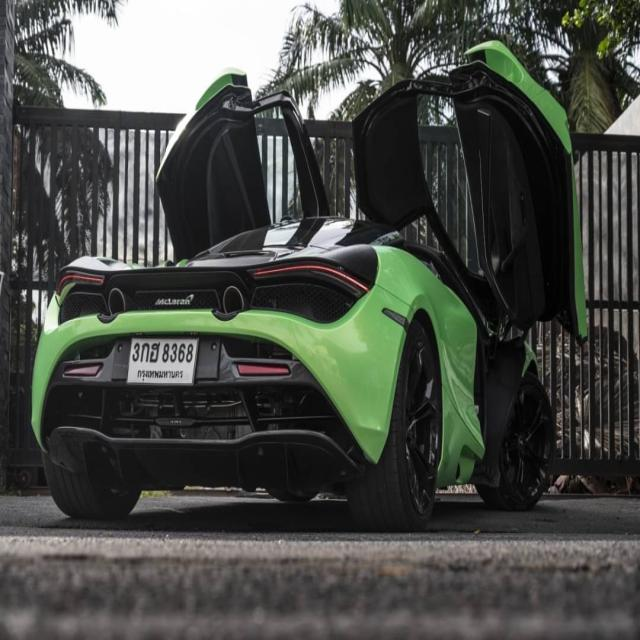license_plate: (123, 330, 200, 387)
